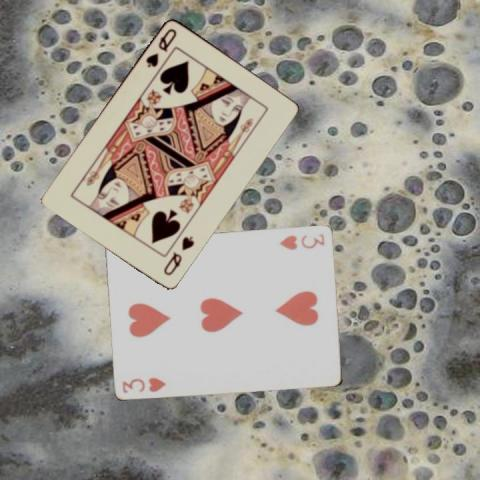3h: (277, 231, 326, 251), (120, 374, 168, 394)
Qs: (160, 232, 196, 276), (142, 25, 178, 68)
